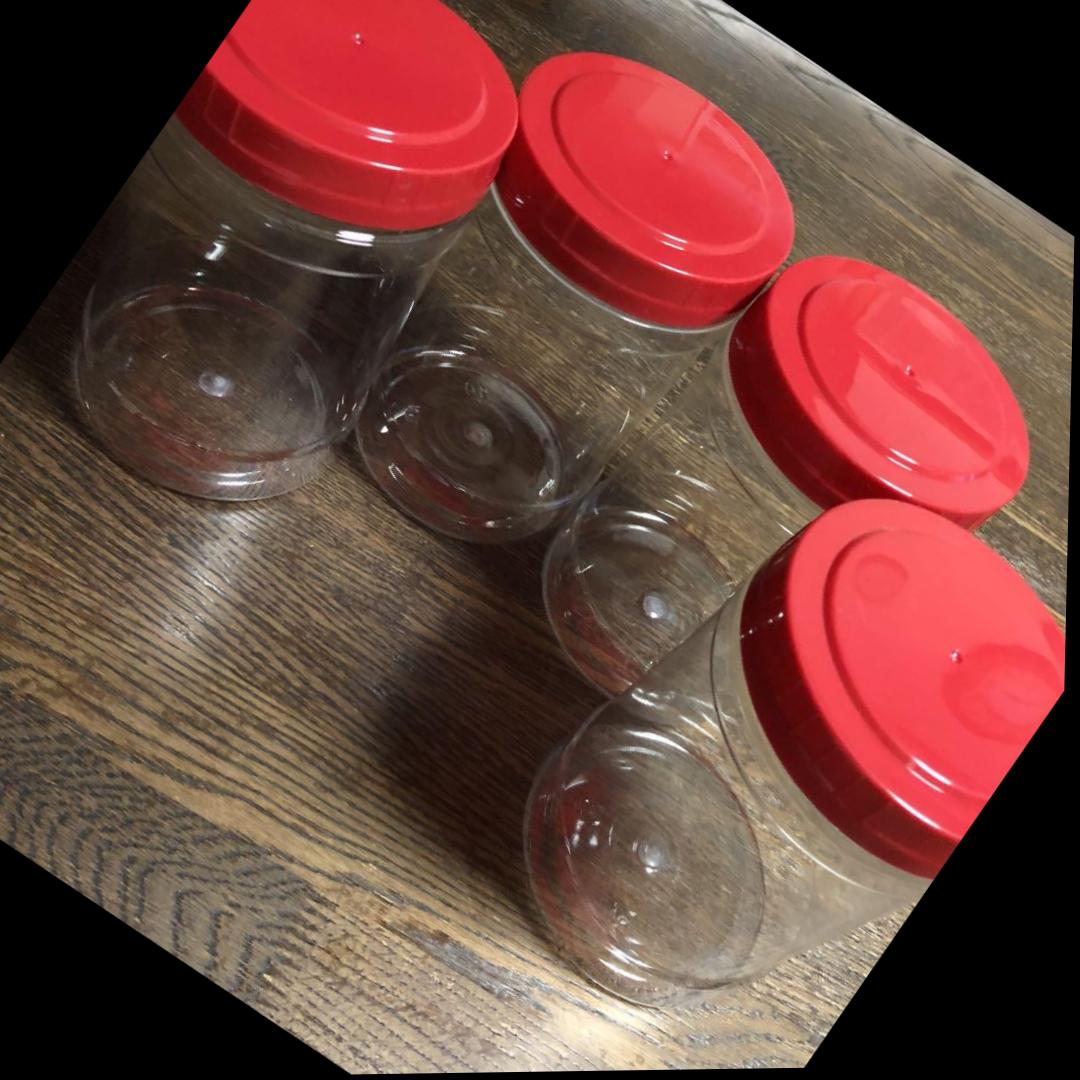plastic: (366, 187, 1061, 998), (75, 0, 791, 529)
